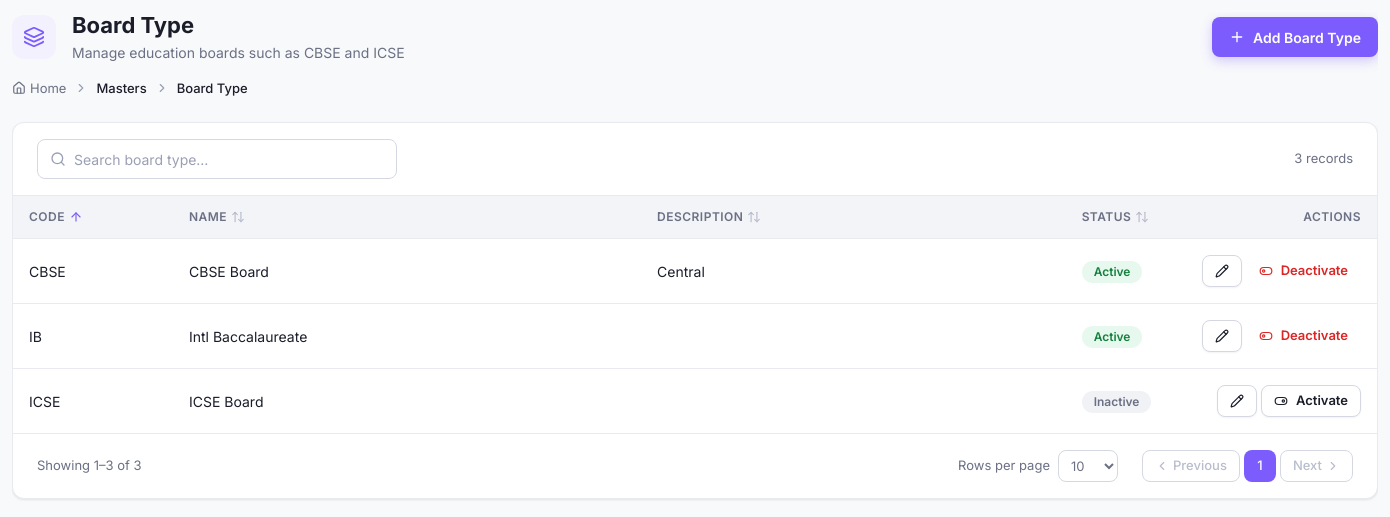
it: MasterListComponent (Board Type config) › sorts when a header is clicked
The width and height of the screenshot is (1390, 517).
Click the button with class "sort" showing "Name" at (217, 217), box [189, 208, 245, 226]
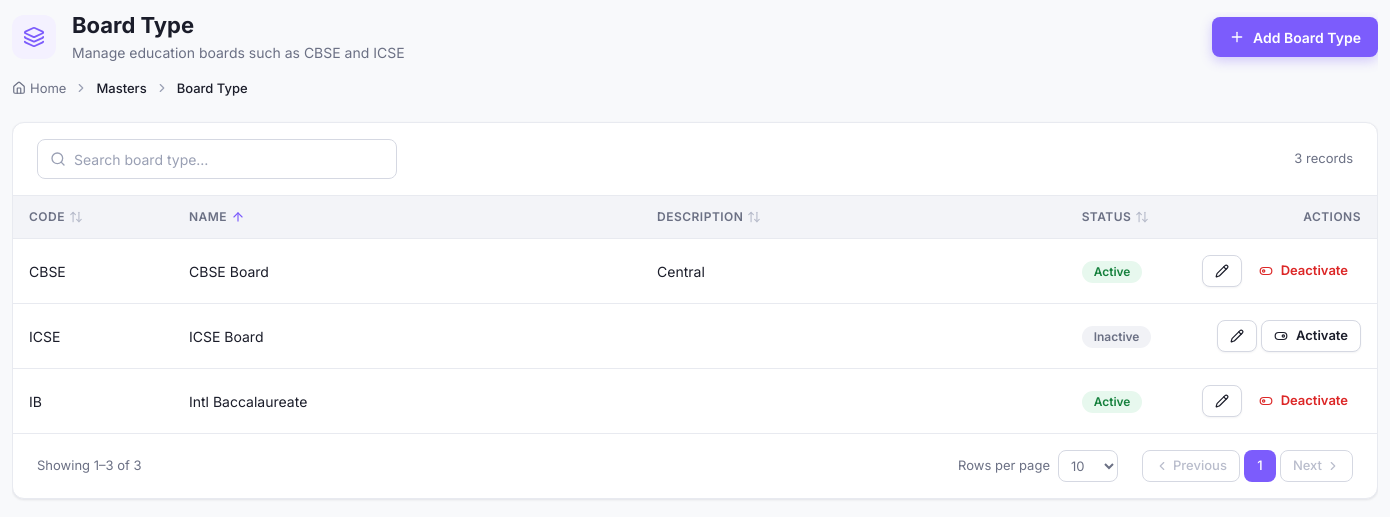
Check: the row "CBSE CBSE Board Central Active Deactivate" is shown, box [13, 238, 1377, 304]
Click the button with class "sort" showing "Name" at (217, 217), box [189, 208, 245, 226]
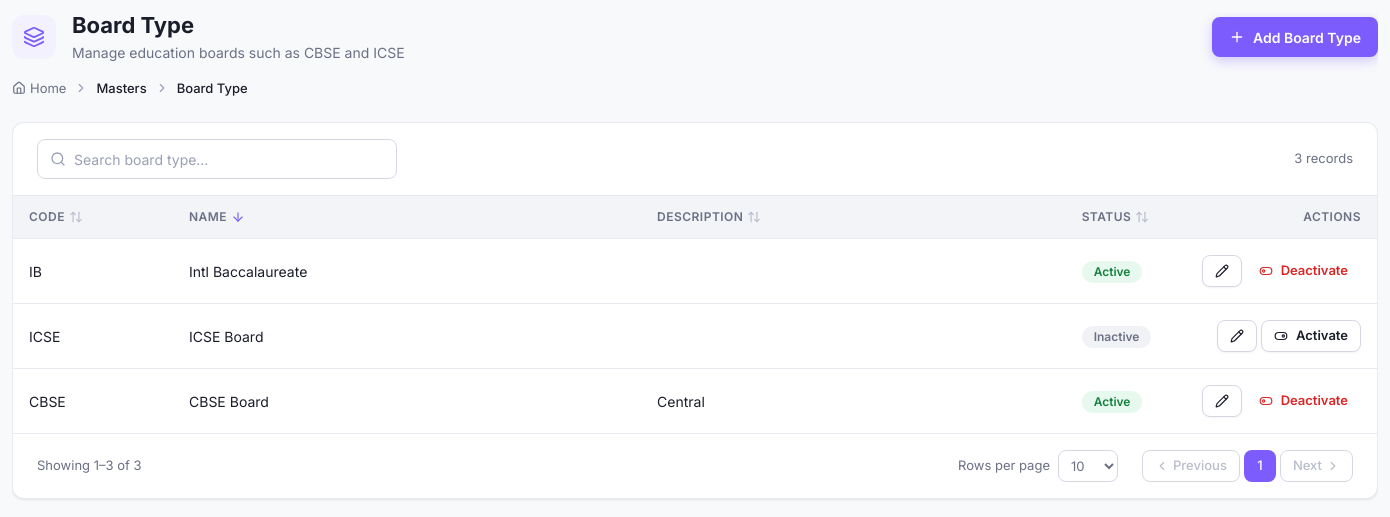
Check: the row "IB Intl Baccalaureate Active Deactivate" is shown, box [13, 238, 1377, 304]
